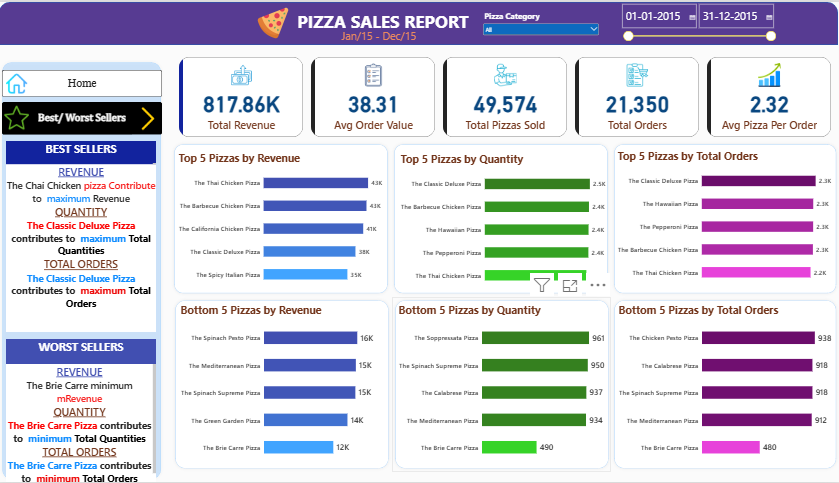

The page's visual inventory and layout, read from the dashboard file:
{"tool":"powerbi","page":{"name":"Best/ Worst Sellers","canvas":[2100,1200],"ordinal":1},"visuals":[{"type":"cardVisual","fields":{"Data":["pizza_sales.Total Revenue","pizza_sales.Avg Order Value","pizza_sales.Total Pizzas Sold","pizza_sales.Total Orders","pizza_sales.Avg Pizza Per Order"]},"box":[429.6,117.6,1670.4,240],"z":0},{"type":"shape","box":[0,0,2097.5,107.5],"z":1000},{"type":"textbox","box":[0,19.4,1920.2,88.6],"z":2000},{"type":"textbox","box":[542.2,64.8,814.3,43.2],"z":3000},{"type":"image","box":[635,13,99.4,79.9],"z":4000},{"type":"shape","box":[429.6,348,549.6,388.8],"z":5000},{"type":"shape","box":[0,142.5,412.8,1058.4],"z":6000},{"type":"textbox","box":[17.5,842.5,375,62.5],"z":7000},{"type":"textbox","box":[17.5,405,375,420],"z":8000},{"type":"textbox","box":[17.5,905,375,295],"z":9000},{"type":"textbox","title":"BEST SELLERS","box":[17.5,347.5,375,57.5],"z":10000},{"type":"slicer","fields":{"Values":["pizza_sales.pizza_category"]},"box":[1204.8,19.2,300,300],"z":11000},{"type":"slicer","fields":{"Values":["pizza_sales.order_date"]},"box":[1550.4,0,396,108],"z":12000},{"type":"shape","box":[979.2,348,549.6,388.8],"z":13000},{"type":"shape","box":[1528.8,348,571.2,388.8],"z":14000},{"type":"shape","box":[432,736.8,549.6,436.8],"z":15000},{"type":"shape","box":[981.6,736.8,549.6,436.8],"z":16000},{"type":"shape","box":[1528.8,736.8,571.2,436.8],"z":17000},{"type":"barChart","title":"Top 5 Pizzas by Revenue ","fields":{"Category":["pizza_sales.pizza_name"],"Y":["pizza_sales.Total Revenue"]},"box":[432.7,358.3,545.7,377.6],"z":18000},{"type":"barChart","title":"Bottom 5 Pizzas by Revenue ","fields":{"Category":["pizza_sales.pizza_name"],"Y":["pizza_sales.Total Revenue"]},"box":[437.5,737.5,540,437.5],"z":19000},{"type":"barChart","title":"Top 5 Pizzas by Quantity","fields":{"Category":["pizza_sales.pizza_name"],"Y":["pizza_sales.Total Pizzas Sold"]},"box":[987.5,360,545.7,377.6],"z":20000},{"type":"barChart","title":"Bottom 5 Pizzas by Quantity","fields":{"Category":["pizza_sales.pizza_name"],"Y":["pizza_sales.Total Pizzas Sold"]},"box":[982.5,737.5,547.5,437.5],"z":21000},{"type":"barChart","title":"Top 5 Pizzas by Total Orders","fields":{"Category":["pizza_sales.pizza_name"],"Y":["pizza_sales.Total Orders"]},"box":[1530,352.5,567.5,377.5],"z":22000},{"type":"barChart","title":"Bottom 5 Pizzas by Total Orders","fields":{"Category":["pizza_sales.pizza_name"],"Y":["pizza_sales.Total Orders"]},"box":[1532.5,737.5,565,437.5],"z":23000},{"type":"pageNavigator","box":[7.5,170,400,67.5],"z":24000},{"type":"pageNavigator","box":[7.5,250,400,82.5],"z":25000},{"type":"image","box":[332.5,262.5,80,57.5],"z":26000},{"type":"image","box":[17.5,170,52.5,67.5],"z":26001},{"type":"image","box":[0,257.5,87.5,62.5],"z":26002}]}

Visuals, with their boxes in screenshot pixels (x1, y1, x2, y2), scaled from the page's 2100x1200 canvas onto the 839x483 screenshot:
cardVisual - pizza_sales.Total Revenue x pizza_sales.Avg Order Value: x1=172 y1=47 x2=838 y2=144
shape: x1=0 y1=0 x2=838 y2=43
textbox: x1=0 y1=8 x2=767 y2=43
textbox: x1=217 y1=26 x2=542 y2=43
image: x1=254 y1=5 x2=293 y2=37
shape: x1=172 y1=140 x2=391 y2=297
shape: x1=0 y1=57 x2=165 y2=482
textbox: x1=7 y1=339 x2=157 y2=364
textbox: x1=7 y1=163 x2=157 y2=332
textbox: x1=7 y1=364 x2=157 y2=482
"BEST SELLERS" textbox: x1=7 y1=140 x2=157 y2=163
slicer - pizza_sales.pizza_category: x1=481 y1=8 x2=601 y2=128
slicer - pizza_sales.order_date: x1=619 y1=0 x2=778 y2=43
shape: x1=391 y1=140 x2=611 y2=297
shape: x1=611 y1=140 x2=838 y2=297
shape: x1=173 y1=297 x2=392 y2=472
shape: x1=392 y1=297 x2=612 y2=472
shape: x1=611 y1=297 x2=838 y2=472
"Top 5 Pizzas by Revenue " barChart: x1=173 y1=144 x2=391 y2=296
"Bottom 5 Pizzas by Revenue " barChart: x1=175 y1=297 x2=391 y2=473
"Top 5 Pizzas by Quantity" barChart: x1=395 y1=145 x2=613 y2=297
"Bottom 5 Pizzas by Quantity" barChart: x1=393 y1=297 x2=611 y2=473
"Top 5 Pizzas by Total Orders" barChart: x1=611 y1=142 x2=838 y2=294
"Bottom 5 Pizzas by Total Orders" barChart: x1=612 y1=297 x2=838 y2=473
pageNavigator: x1=3 y1=68 x2=163 y2=96
pageNavigator: x1=3 y1=101 x2=163 y2=134
image: x1=133 y1=106 x2=165 y2=129
image: x1=7 y1=68 x2=28 y2=96
image: x1=0 y1=104 x2=35 y2=129
